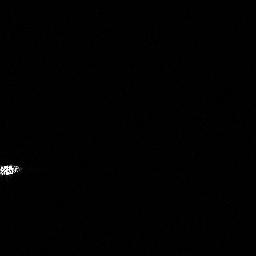ship: (1, 160, 25, 178)
